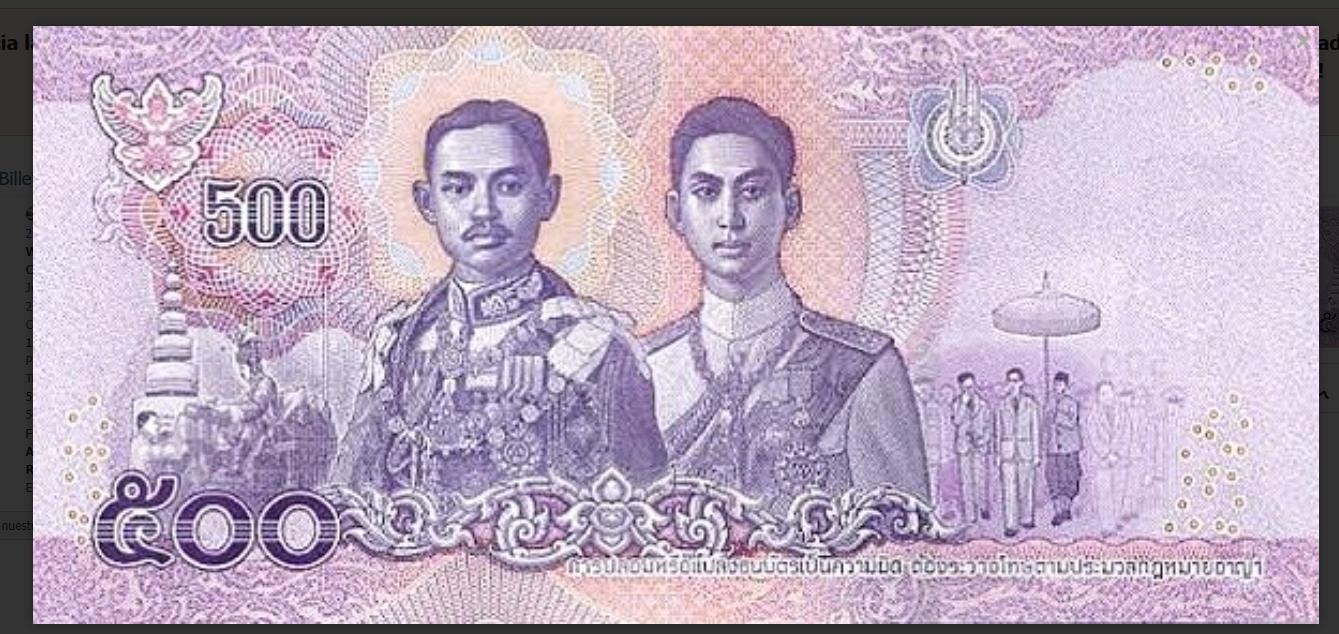500BahtTai: (35, 26, 1315, 627)
